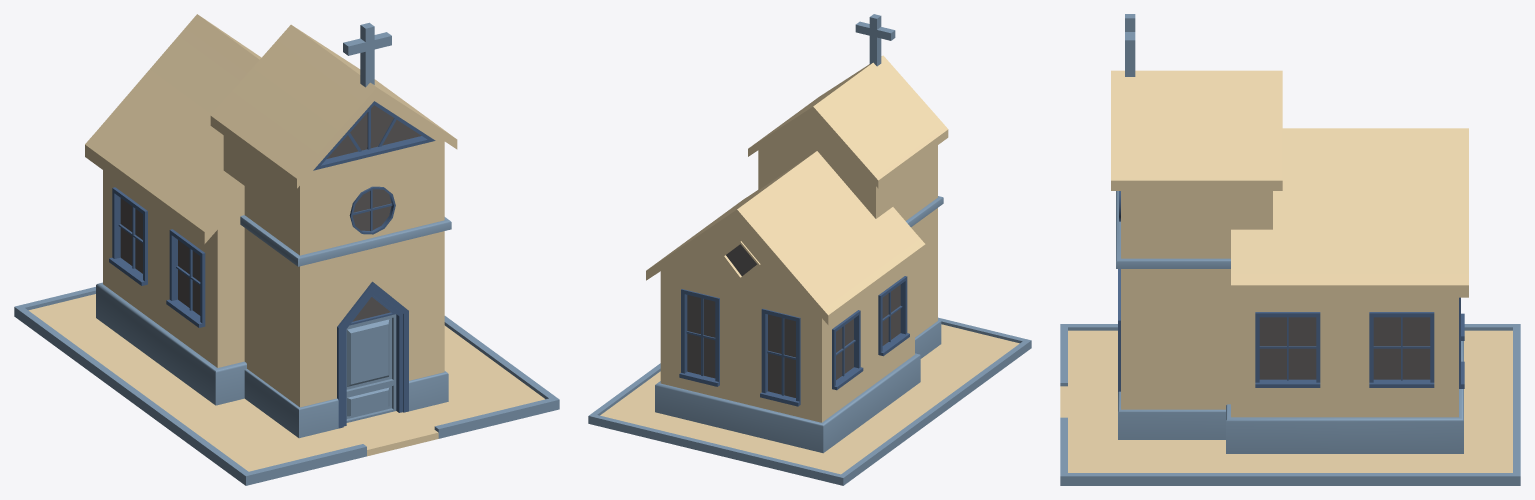
Rendered from infrastructure-building-church.fbx.
3 renders of one model, left to right at view 1: azimuth 30°, elevation 25°; view 2: azimuth 150°, elevation 25°; view 3: azimuth 270°, elevation 25°, orthographic. The views are drawn at different scales.
Visible parts, largest first — view 1: infrastructure-building-church; view 2: infrastructure-building-church; view 3: infrastructure-building-church.
Boxes of the visible parts, left/top/right/bottom form: infrastructure-building-church: left=14, top=14, right=559, bottom=485; infrastructure-building-church: left=588, top=14, right=1031, bottom=485; infrastructure-building-church: left=1060, top=14, right=1520, bottom=485.
Size of the model in its own units: 9.57 by 11.54 by 12.23.
